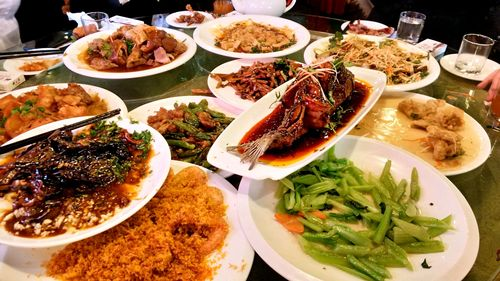food: (251, 148, 482, 271), (0, 102, 167, 245), (210, 50, 376, 177), (110, 161, 240, 275), (273, 144, 393, 234), (68, 16, 194, 86), (0, 75, 113, 145), (392, 94, 489, 174), (141, 92, 237, 162), (195, 10, 311, 61), (207, 57, 307, 109), (350, 35, 439, 90)
